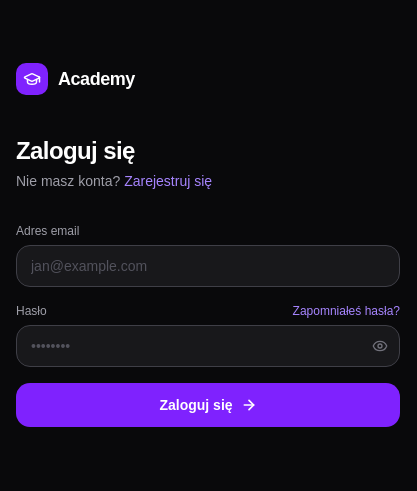
Test: LoginPage › shows EMAIL_NOT_VERIFIED warning with resend link
Type "unverified@example.com" into the field with placeholder "jan@example.com". click: (208, 266)
box: [16, 245, 400, 287]
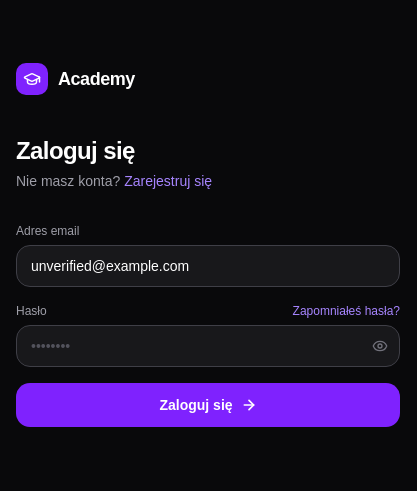
Type "Password1!" into the password field with placeholder "••••••••". click: (208, 346)
box: [16, 325, 400, 367]
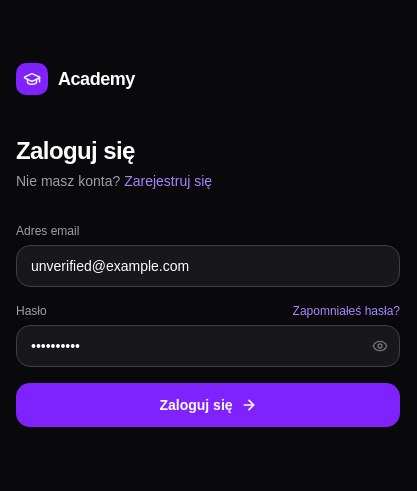
Submit the form with placeholder "jan@example.com", box [16, 223, 400, 427]
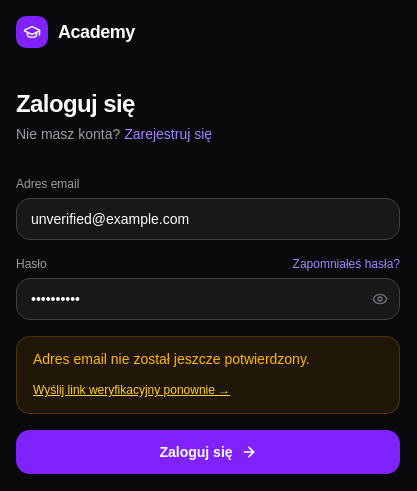
Now the text "Adres email nie został jeszcze potwierdzony." is shown, box [33, 351, 310, 367]
